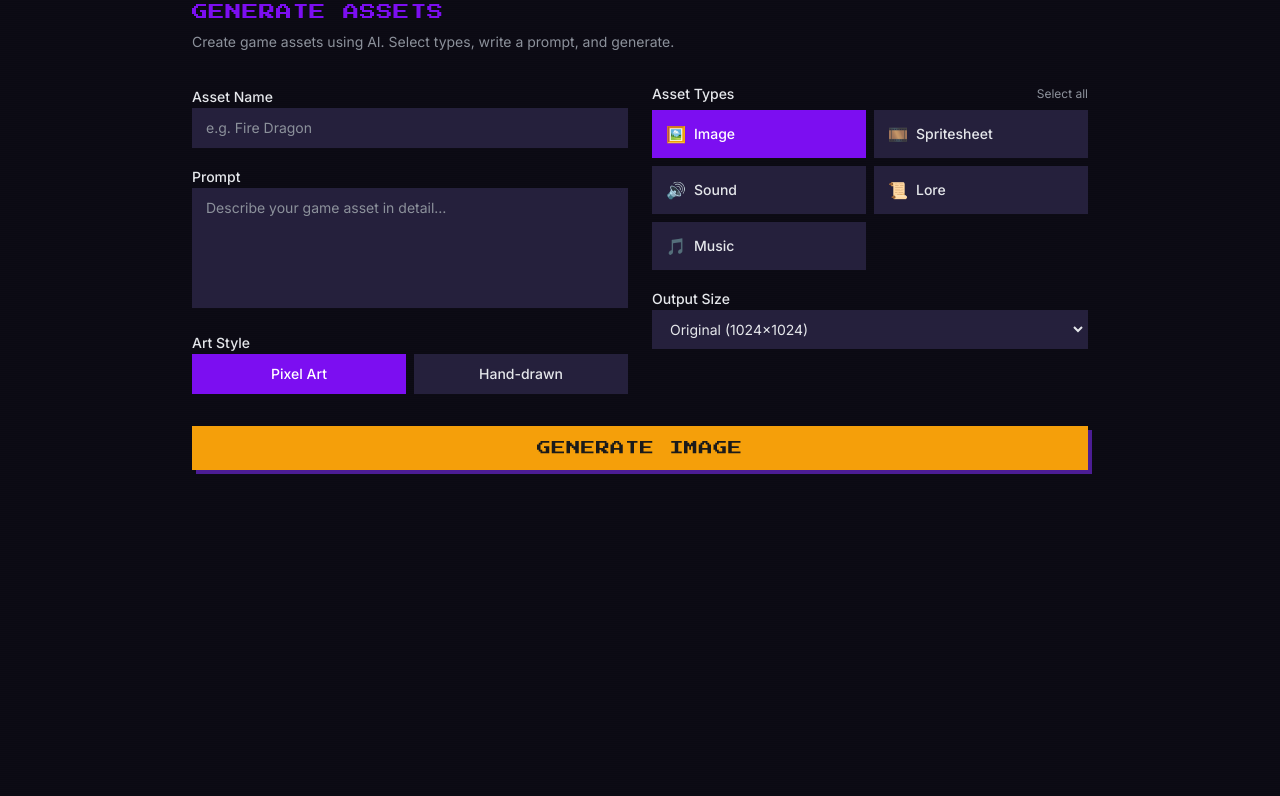
Test case: GenerateView — music options block › toggles the advanced temperature and guidance controls
Click the button "🎵 music". click: (759, 246)
box: [652,222,866,270]
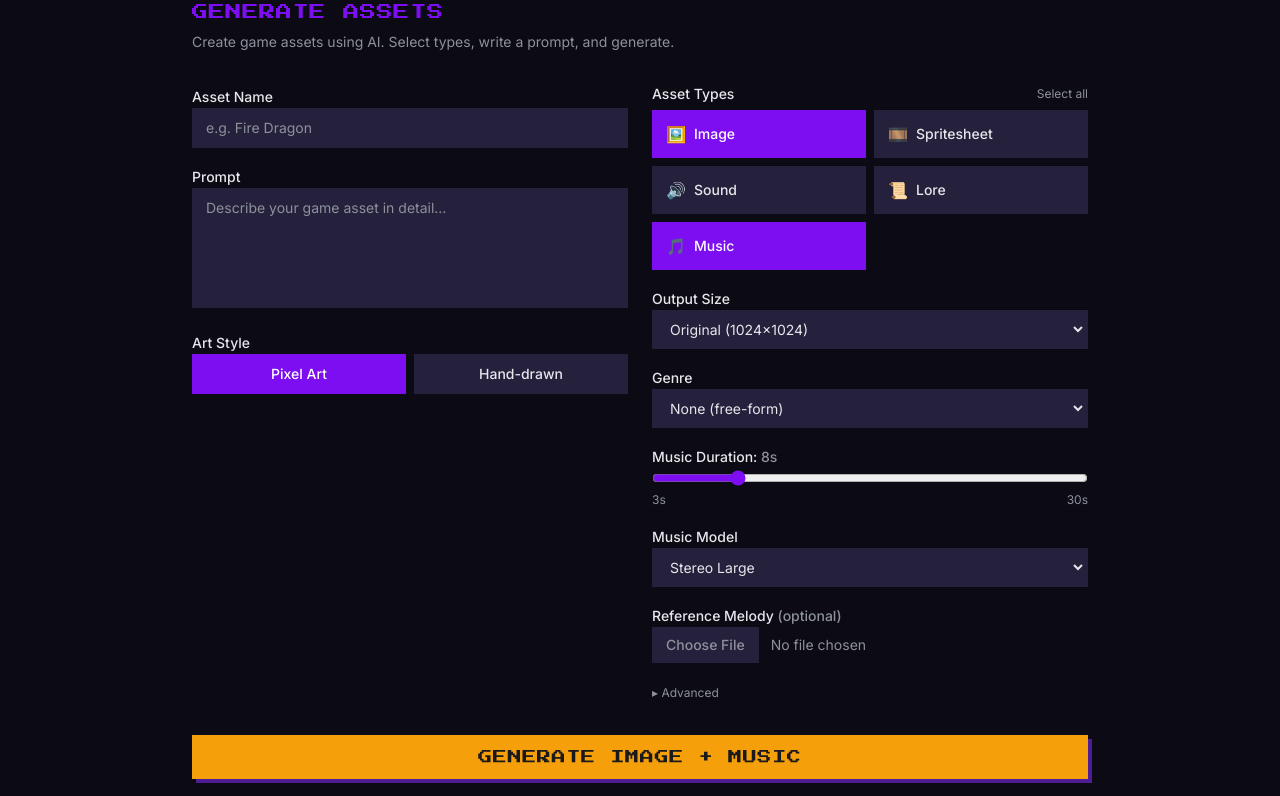
Expected: the text "Temperature" is not shown
Click the button "▸ Advanced". click: (685, 693)
box: [652,685,719,701]
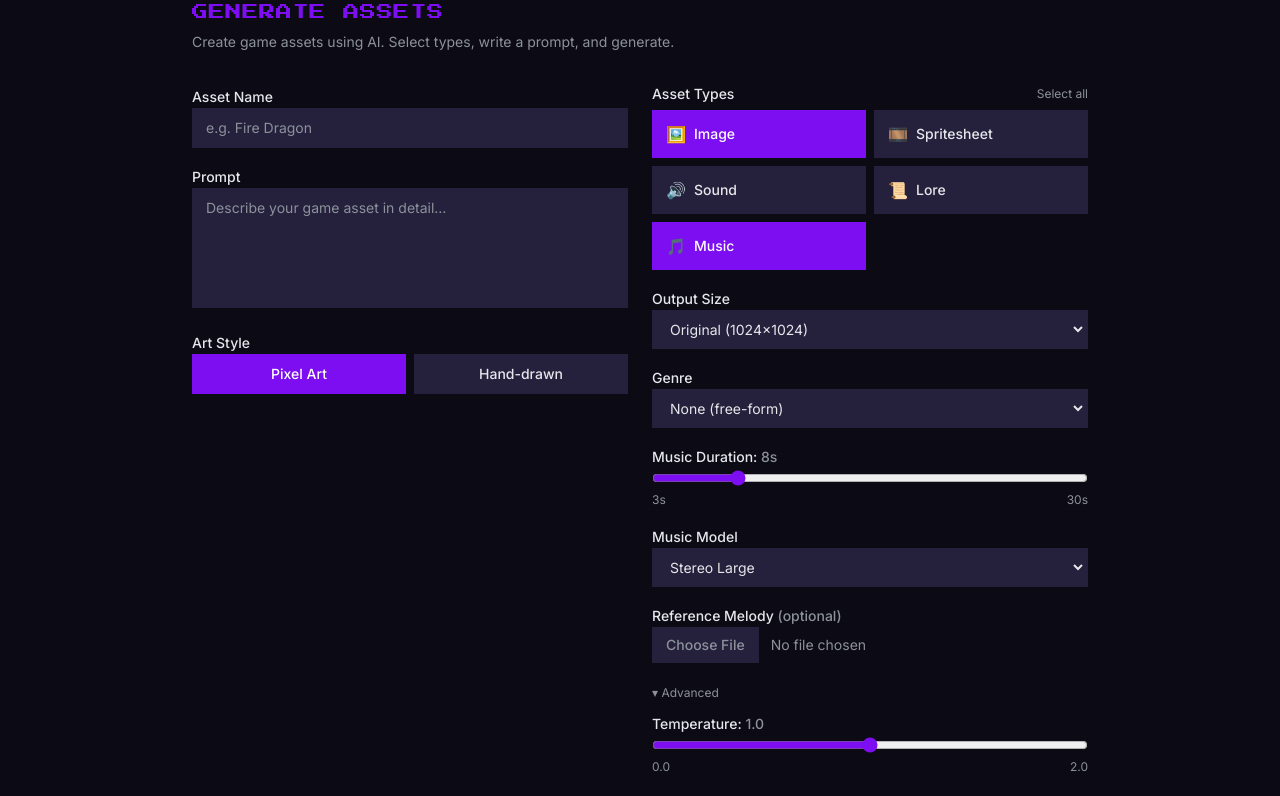
Now the text "Temperature" is shown, box [652,715,745,732]
